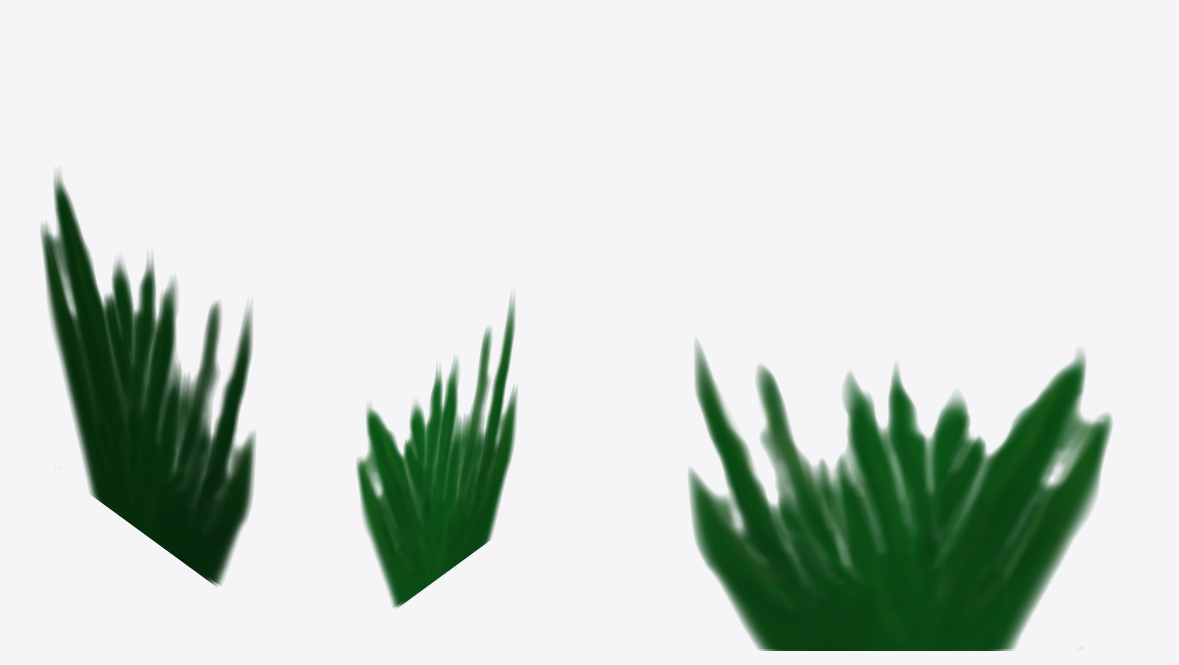
Rendered from grass.glb.
3 renders of one model, left to right at view 1: azimuth 30°, elevation 25°; view 2: azimuth 150°, elevation 25°; view 3: azimuth 270°, elevation 25°, orthographic. The views are drawn at different scales.
Visible parts, largest first — view 1: Plane.001; view 2: Plane.001; view 3: Plane.001.
Part boxes in pixels (x1,y1,x2,y2): Plane.001: (41, 173, 255, 585); Plane.001: (356, 296, 517, 608); Plane.001: (688, 342, 1111, 650).
Bounding box in the file's own units: 0.00958 × 1.47 × 1.21.
Materials: 1 (1 with a texture image).
